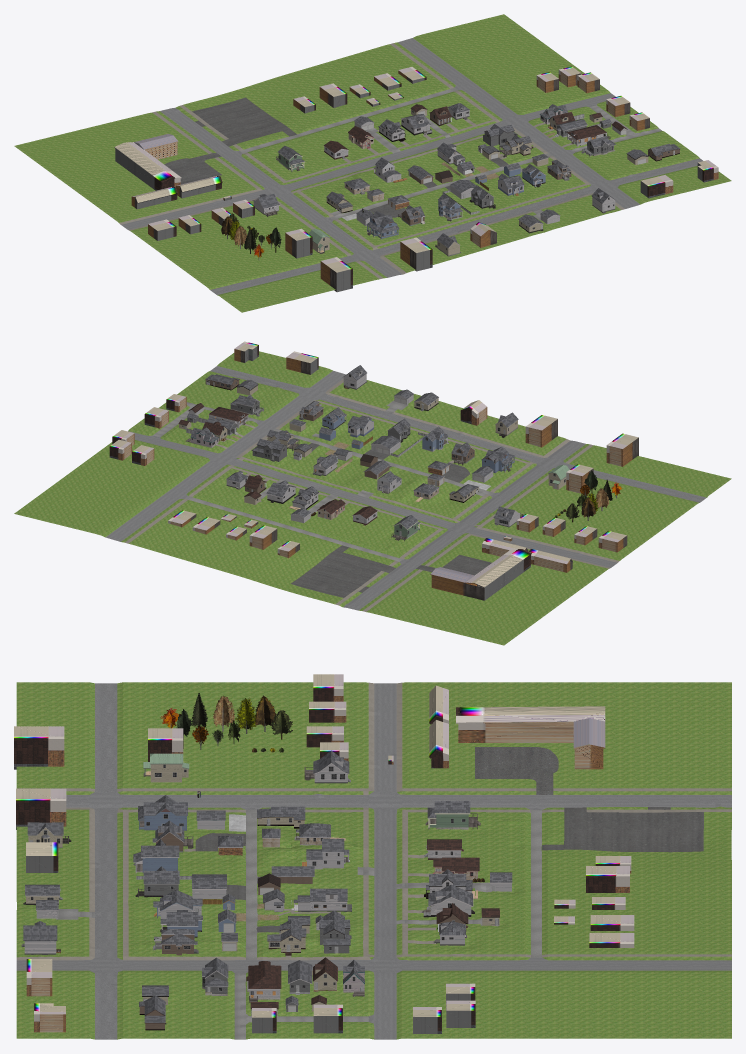
The model's file is Bloc.fbx.
The picture shows the model from 3 angles, top to bottom: view 1: azimuth 30°, elevation 25°; view 2: azimuth 150°, elevation 25°; view 3: azimuth 270°, elevation 25°; orthographic projection. The views are drawn at different scales.
Visible parts, largest first — view 1: Cube.027; view 2: Cube.027; view 3: Cube.027.
Boxes of the visible parts, <box> form: Cube.027: <box>14,14,731,312</box>; Cube.027: <box>14,341,731,645</box>; Cube.027: <box>14,674,731,1039</box>.
Bounding box in the file's own units: 29543 × 1628 × 23886.
